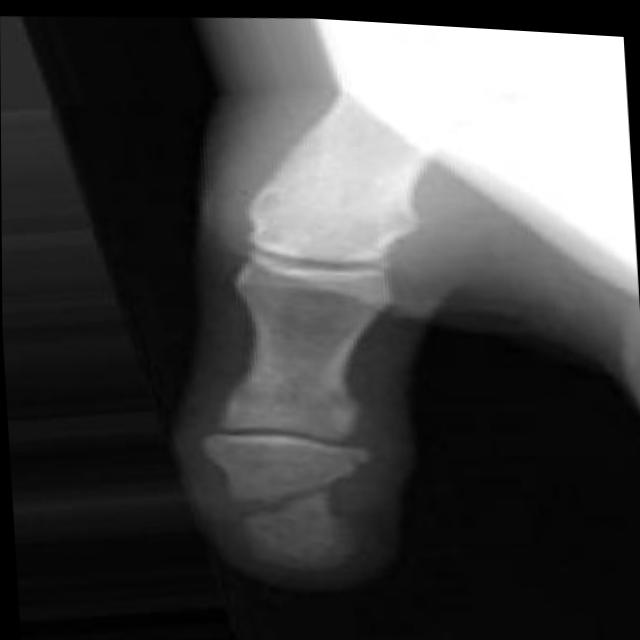fracture: (213, 454, 360, 530)
